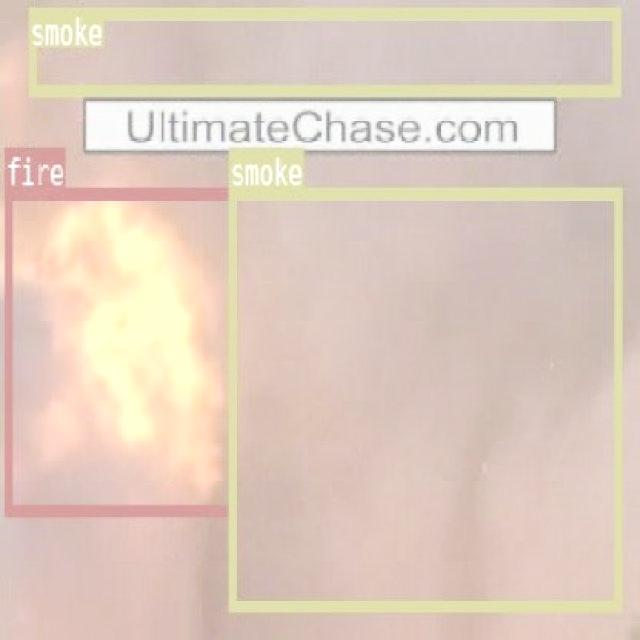fire: (3, 186, 235, 514)
smoke: (228, 187, 620, 610), (28, 7, 620, 95)
